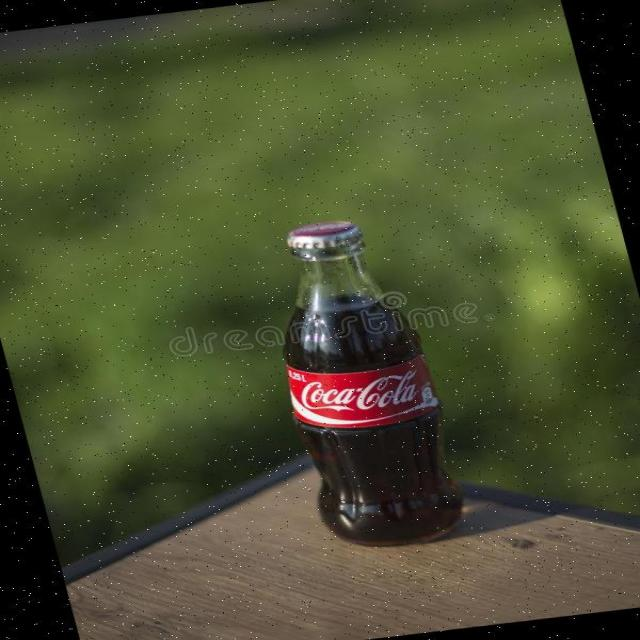coca-cola: (232, 206, 490, 565)
